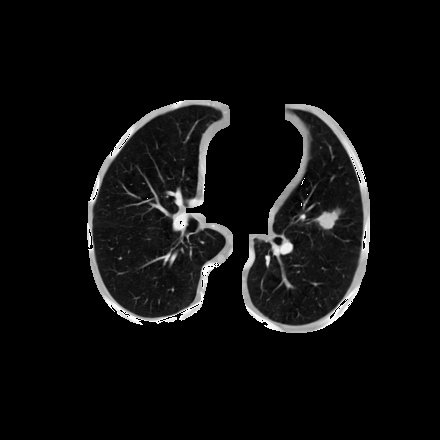PN: (317, 208, 337, 228)
